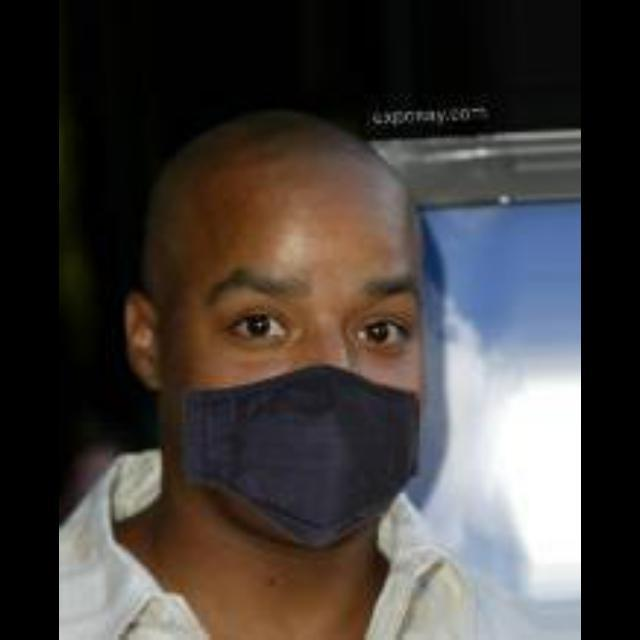suspicion: (90, 106, 460, 534)
